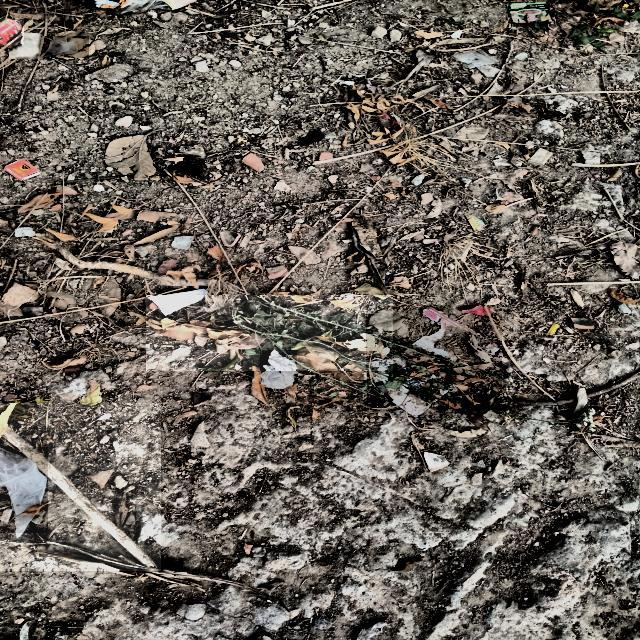anorganik: (508, 3, 555, 25), (41, 36, 88, 58), (0, 19, 24, 45)
organik: (0, 403, 160, 570), (147, 295, 392, 371), (367, 306, 501, 418), (56, 242, 220, 287), (0, 448, 47, 534), (105, 136, 157, 180), (261, 351, 298, 390), (4, 159, 43, 182), (9, 35, 42, 59)
